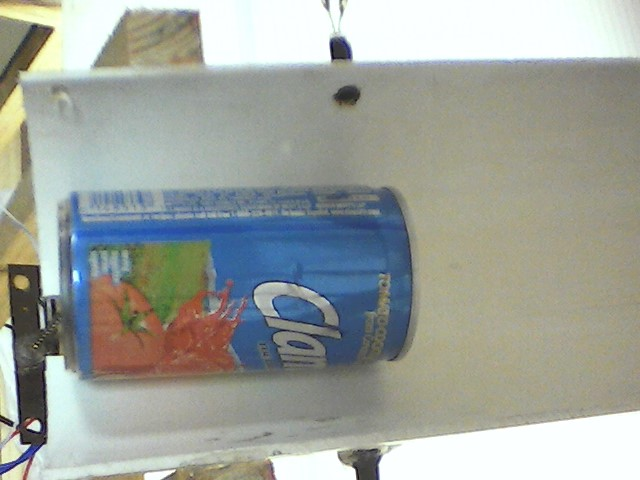lata: (55, 182, 428, 388)
